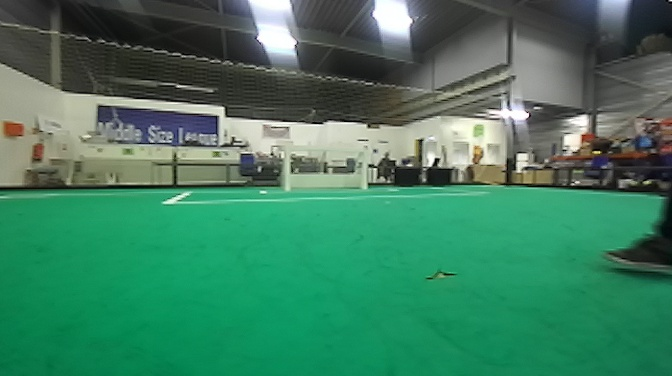goalpost: (279, 140, 297, 193), (356, 144, 370, 191)
